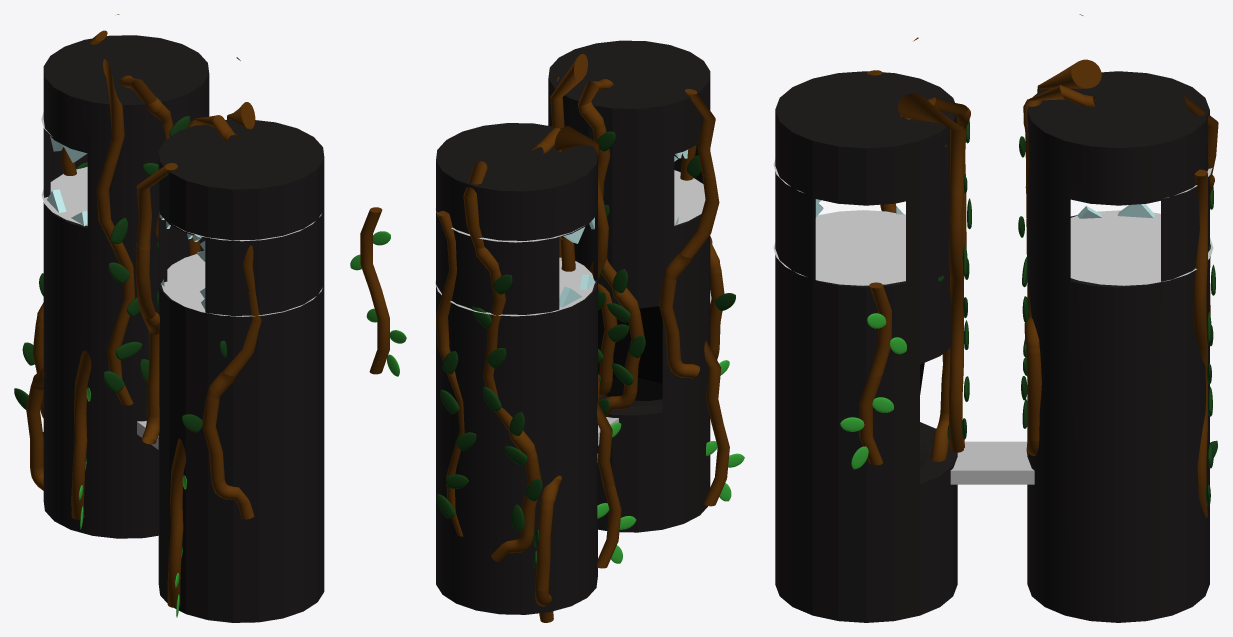
File: R_building.fbx
3 views of the same model, side by side, from view 1: azimuth 30°, elevation 25°; view 2: azimuth 150°, elevation 25°; view 3: azimuth 270°, elevation 25° (orthographic). The views are drawn at different scales.
Visible parts, largest first — view 1: pasted__pCylinder1, pCylinder2, pSphere38, pCylinder23, pCylinder33, pCylinder36, pasted__pCylinder9, pasted__pasted__pasted__pCylinder9, pasted__pasted__pasted__pCylinder10, pDisc2, pasted__pasted__pCylinder26, pasted__pCylinder27 (+2 smaller); view 2: pCylinder2, pasted__pCylinder1, pSphere15, pasted__pCylinder27, pCylinder23, pCube9, pasted__pasted__pasted__pCylinder10, pasted__pasted__pasted__pCylinder9, pasted__pCylinder32, pCylinder36, pasted__pasted__pCylinder26, pSphere38 (+5 smaller); view 3: pCylinder2, pasted__pCylinder1, pCylinder36, pDisc2, left, pasted__pCylinder9, pasted__pCylinder32, pSphere15, pSphere38, pSphere7, pasted__pCylinder27, Glass2.
Boxes of the visible parts, bbox=[...] form: pasted__pCylinder1: bbox=[158, 120, 324, 622]; pCylinder2: bbox=[43, 35, 209, 538]; pSphere38: bbox=[96, 59, 142, 405]; pCylinder23: bbox=[135, 163, 177, 444]; pCylinder33: bbox=[202, 245, 261, 519]; pCylinder36: bbox=[41, 14, 190, 449]; pasted__pCylinder9: bbox=[350, 207, 406, 376]; pasted__pasted__pasted__pCylinder9: bbox=[71, 350, 91, 529]; pasted__pasted__pasted__pCylinder10: bbox=[167, 438, 186, 617]; pDisc2: bbox=[161, 254, 322, 316]; pasted__pasted__pCylinder26: bbox=[26, 367, 44, 490]; pasted__pCylinder27: bbox=[32, 30, 107, 418]; pCylinder2: bbox=[436, 123, 597, 614]; pasted__pCylinder1: bbox=[548, 40, 710, 532]; pSphere15: bbox=[577, 79, 645, 416]; pasted__pCylinder27: bbox=[463, 161, 541, 562]; pCylinder23: bbox=[659, 89, 719, 378]; pCube9: bbox=[598, 306, 662, 400]; pasted__pasted__pasted__pCylinder10: bbox=[703, 340, 744, 506]; pasted__pasted__pasted__pCylinder9: bbox=[597, 401, 636, 568]; pasted__pCylinder32: bbox=[436, 211, 464, 536]; pCylinder36: bbox=[435, 77, 618, 445]; pasted__pasted__pCylinder26: bbox=[535, 475, 561, 622]; pSphere38: bbox=[554, 126, 609, 414]; pCylinder2: bbox=[1027, 71, 1209, 622]; pasted__pCylinder1: bbox=[775, 71, 957, 622]; pCylinder36: bbox=[950, 14, 1213, 484]; pDisc2: bbox=[773, 210, 905, 285]; left: bbox=[898, 93, 969, 452]; pasted__pCylinder9: bbox=[840, 282, 906, 469]; pasted__pCylinder32: bbox=[1193, 169, 1207, 517]; pSphere15: bbox=[900, 37, 971, 447]; pSphere38: bbox=[1037, 59, 1101, 92]; pSphere7: bbox=[930, 145, 949, 461]; pasted__pCylinder27: bbox=[1183, 95, 1218, 315]; Glass2: bbox=[1077, 204, 1154, 218].
Bounding box in the file's own units: 147 × 292 × 206.
